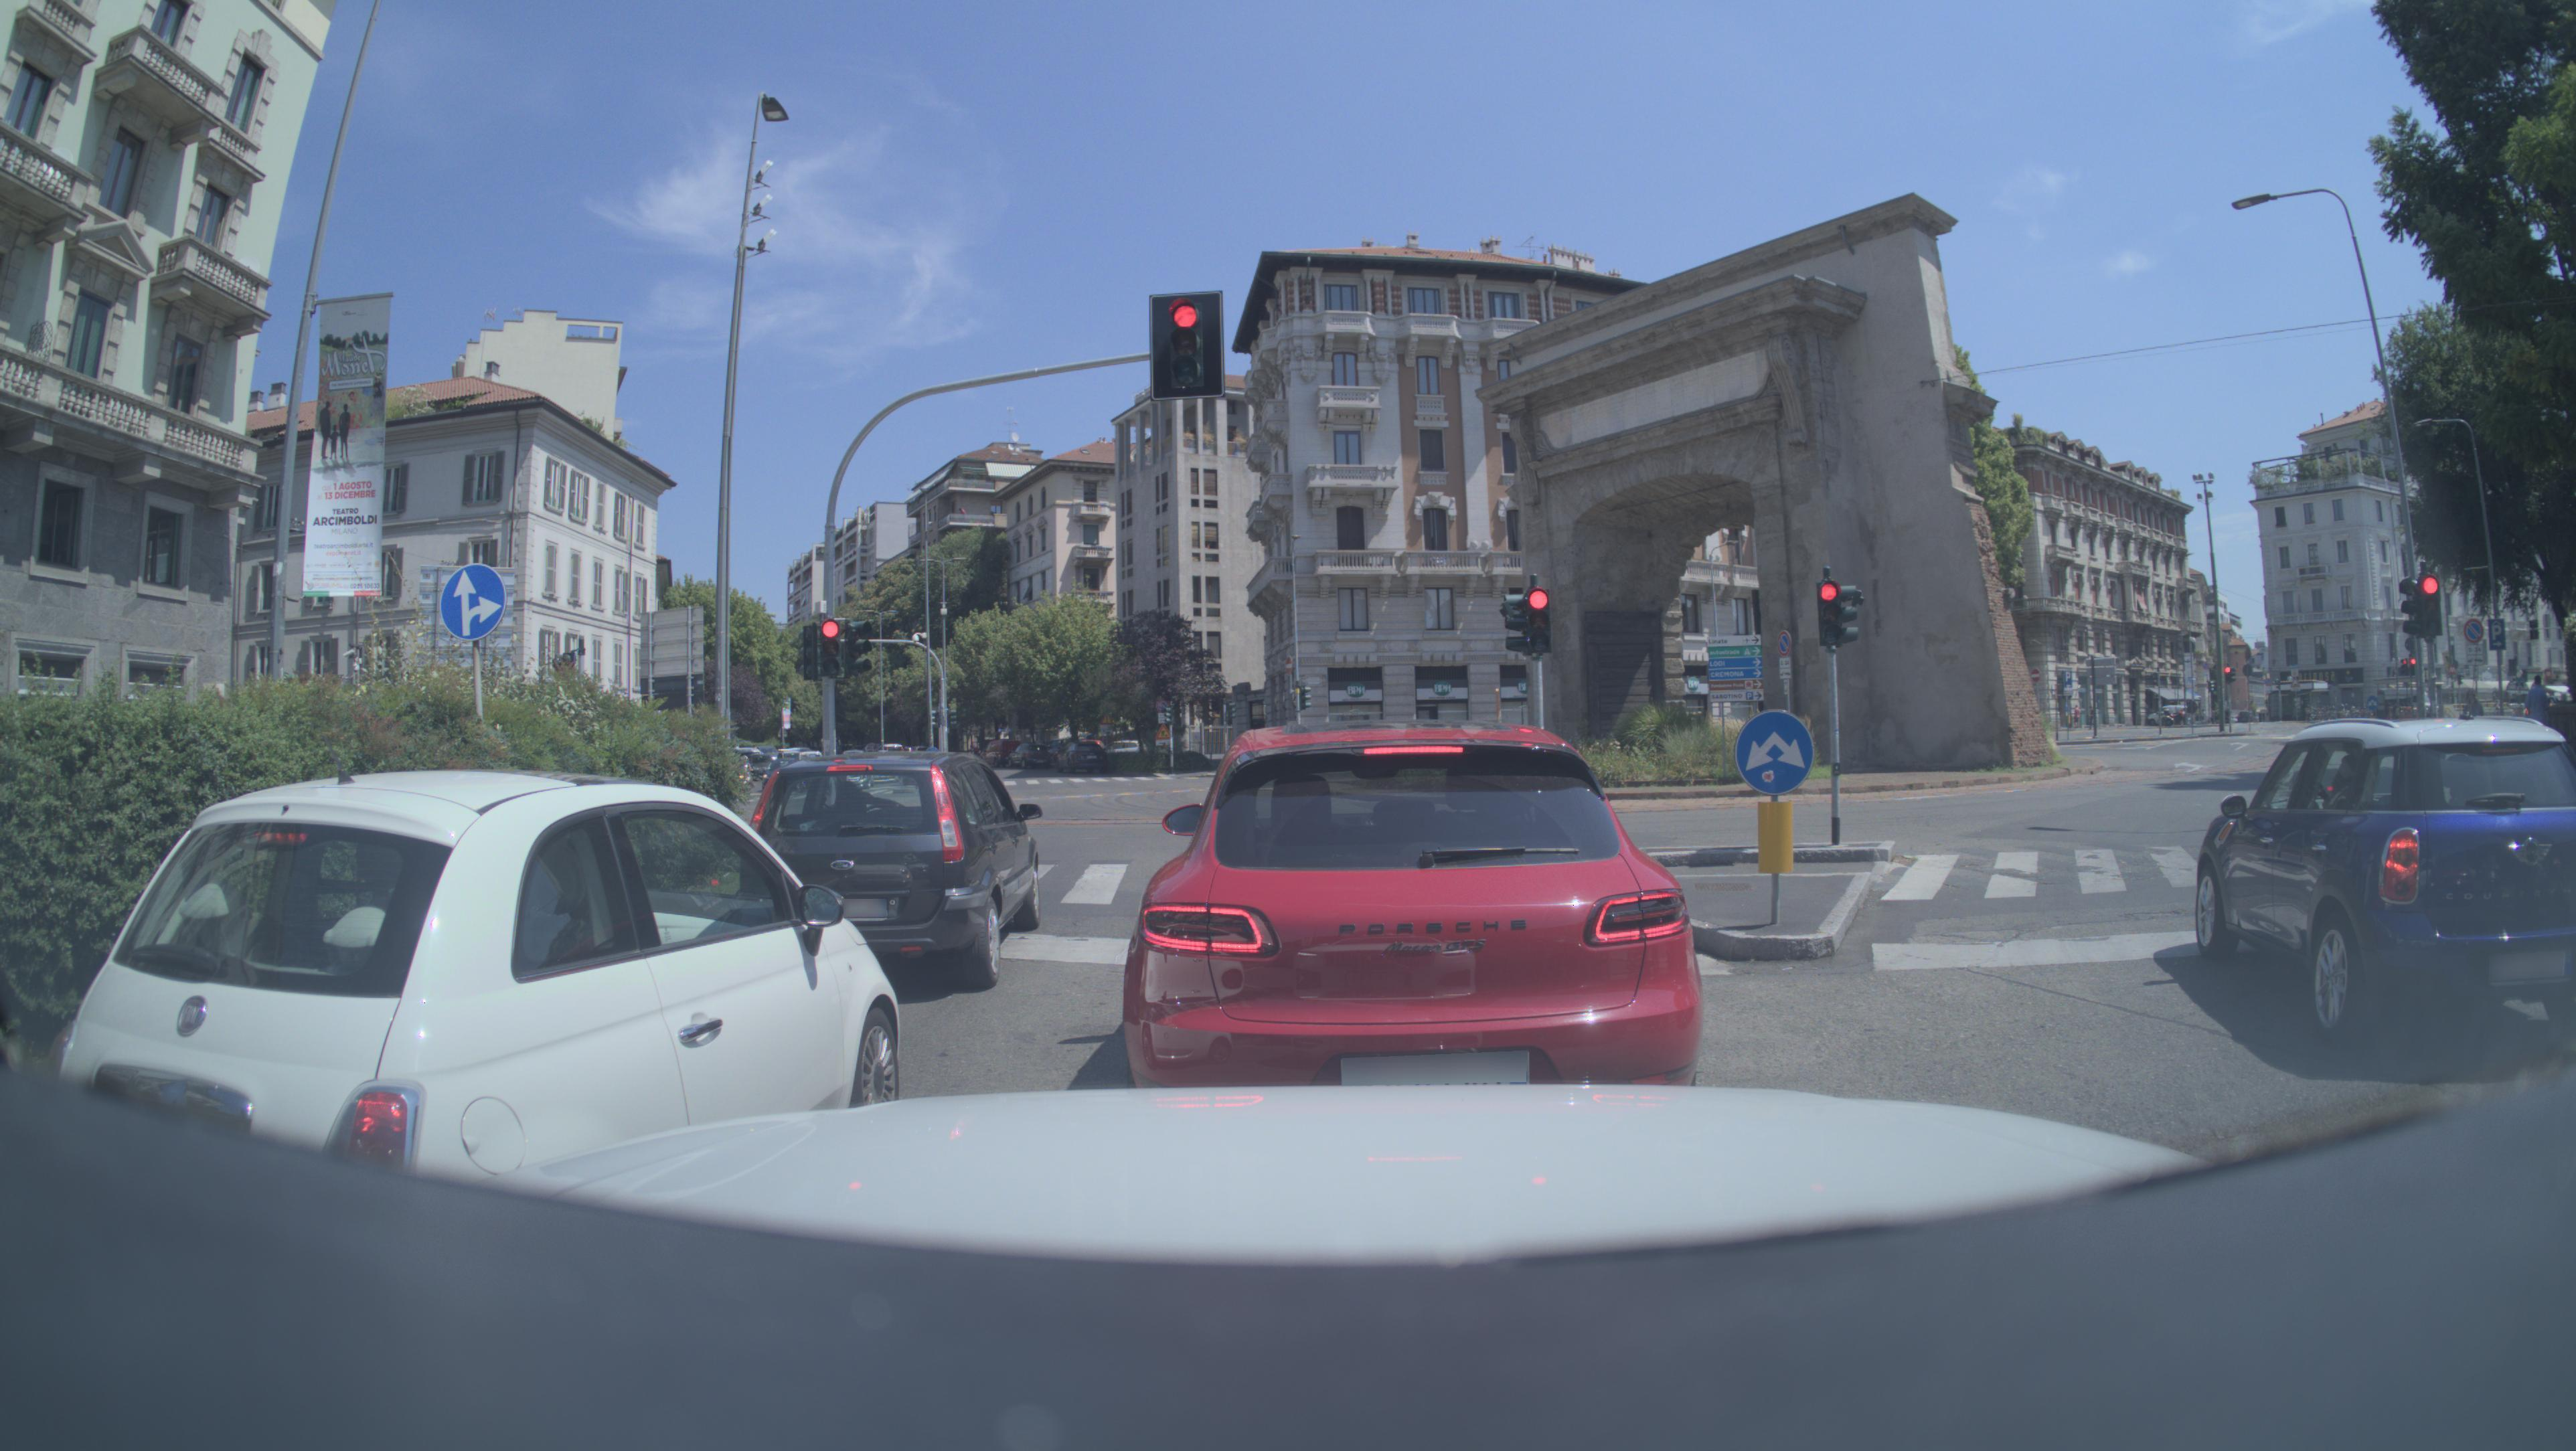red: (1152, 296, 1223, 396), (2419, 573, 2445, 637), (1819, 580, 1844, 648), (819, 618, 844, 678), (1527, 589, 1552, 649), (2224, 665, 2231, 685), (2401, 658, 2408, 678), (2411, 658, 2419, 676)
